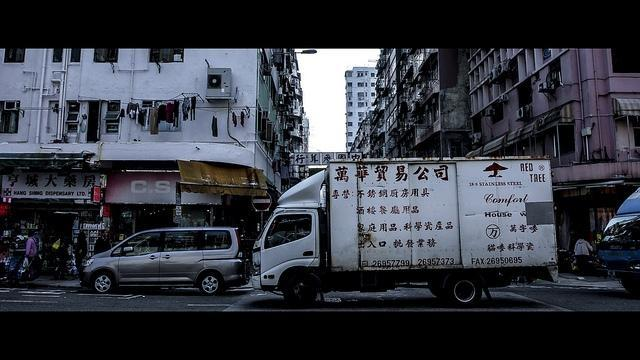car: (81, 228, 254, 296)
truck: (251, 156, 561, 307)
